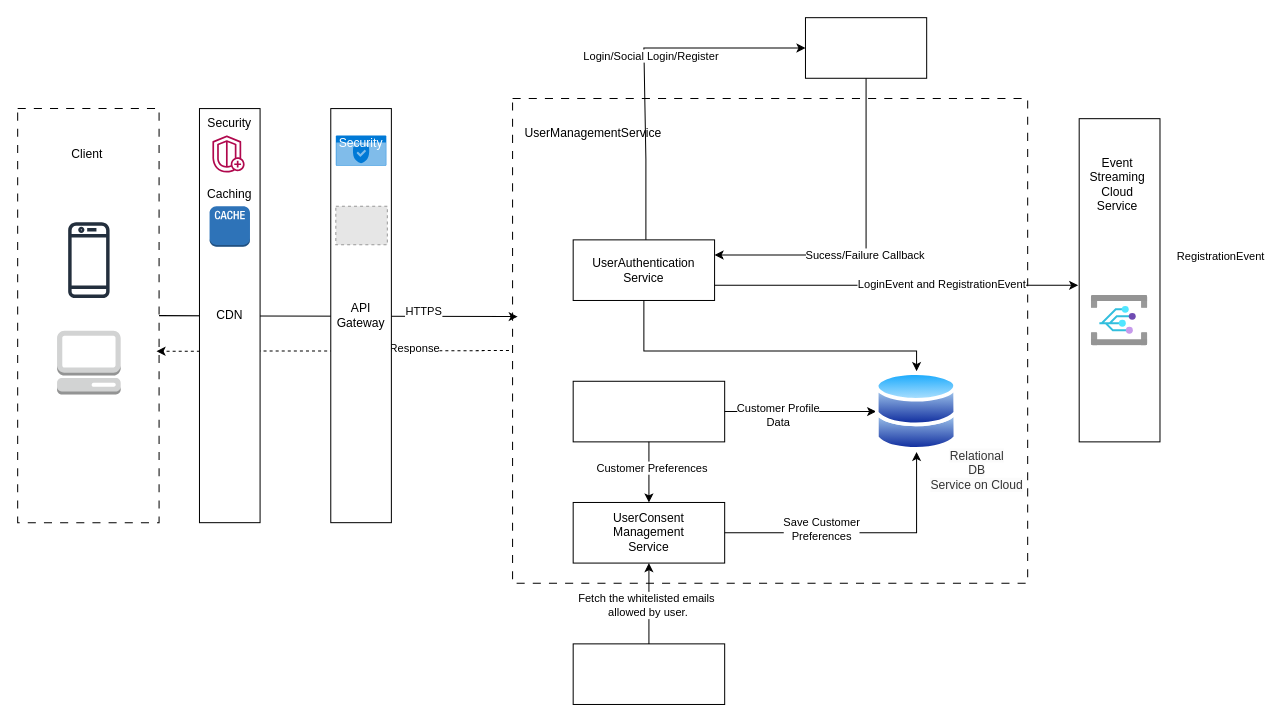
This 1282x722 diagram has some shape labels left out. Grey dashed boxes stand in for pictures. The centre of each missing label's shape, as x and y in pixels:
IDP: (x=865, y=47)
ThirdPartyAndEmail IntegrationMicroservice: (x=648, y=673)
UserProfileService: (x=648, y=411)
